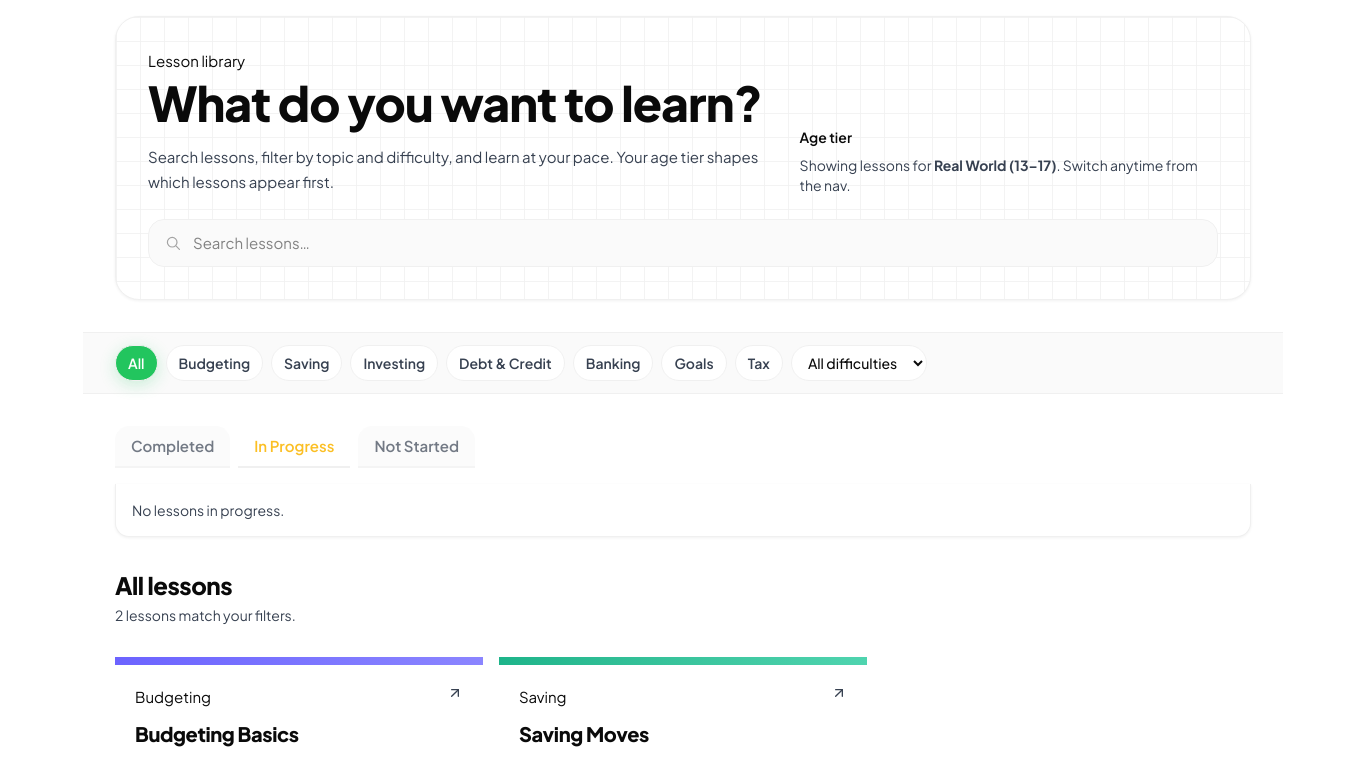
LessonLibraryClient › filters lessons by search query
Type "saving" into the field with placeholder "Search lessons…" at (282, 242), box [193, 230, 370, 254]
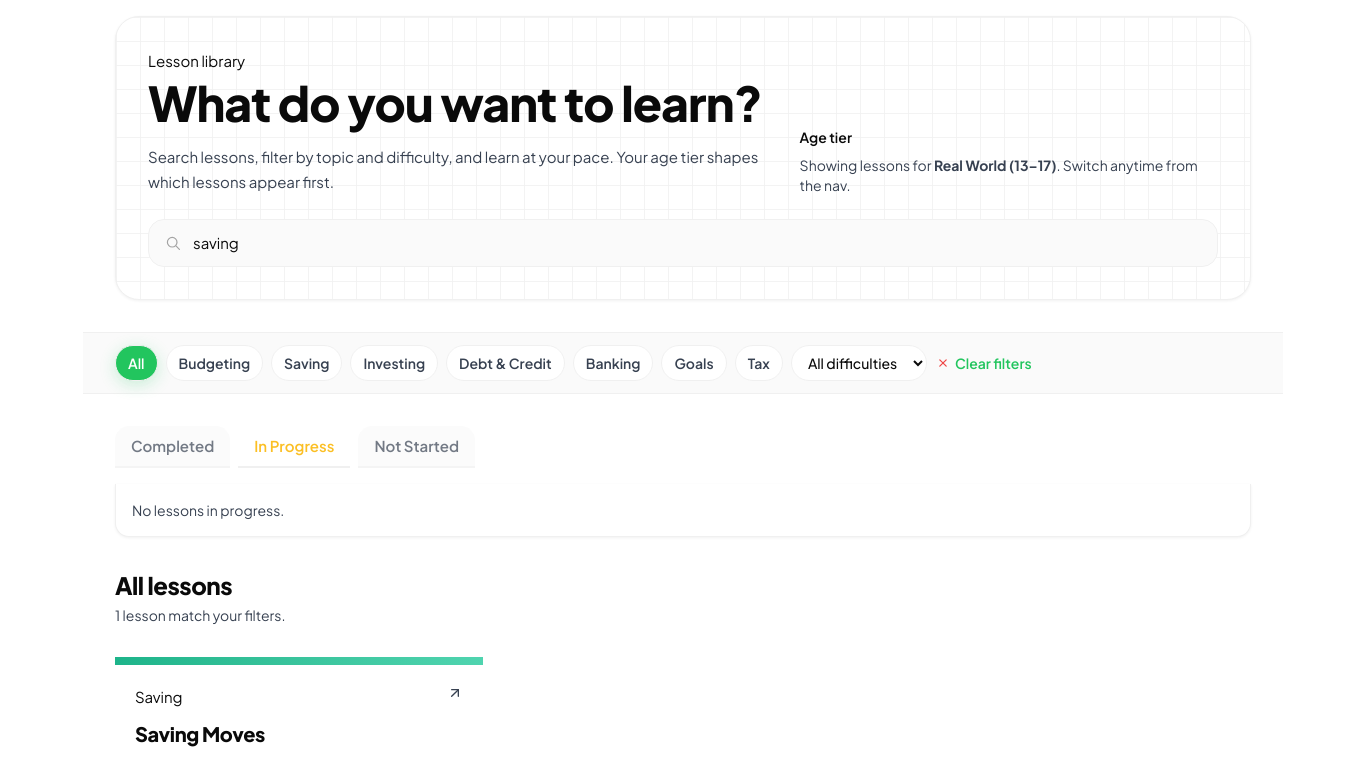
Expected: the heading "Saving Moves" is shown, [135, 720, 265, 746]
Now the link "Budgeting Basics" is gone
